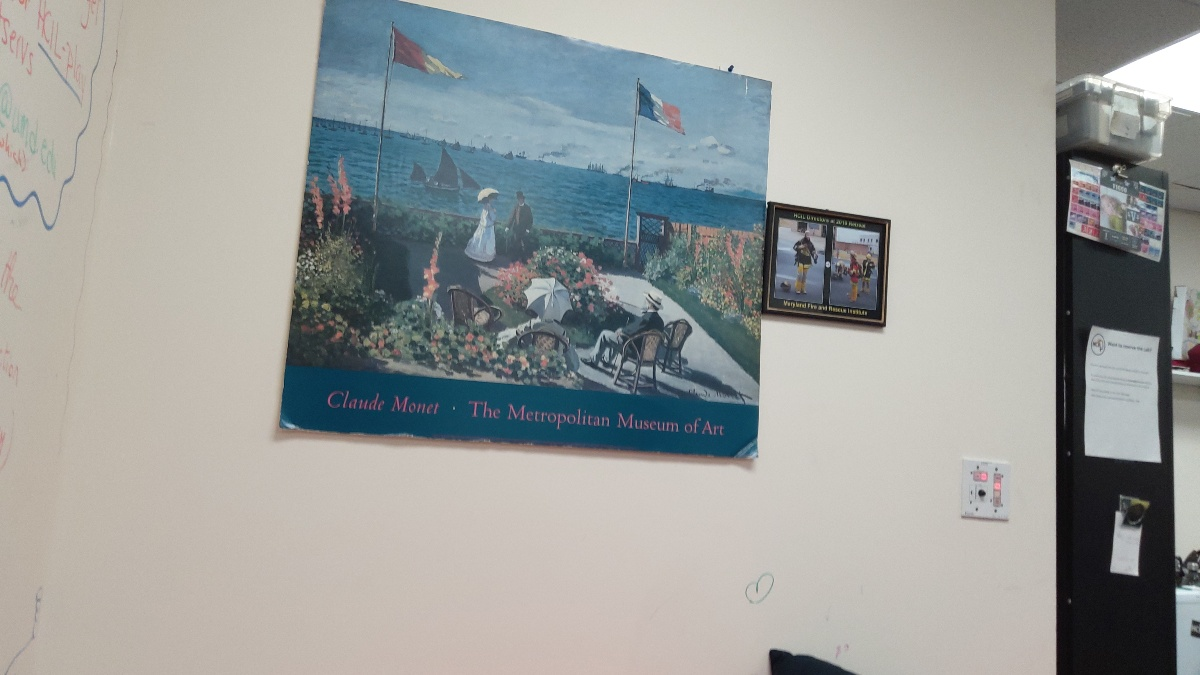poster: (276, 3, 775, 471)
